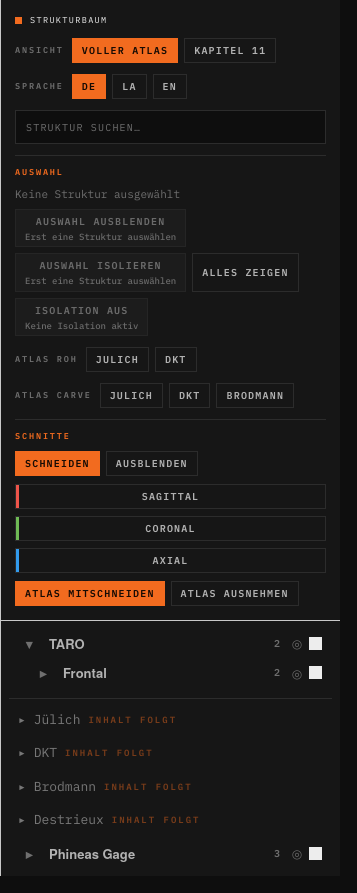
StructureTree Gruppenknoten › bindet die Suche an den Store und rendert Label-, Alias- und Nulltreffer
The width and height of the screenshot is (357, 893).
Type "Area A" into the field with placeholder "Struktur suchen…" at (170, 127), box [15,110,326,144]
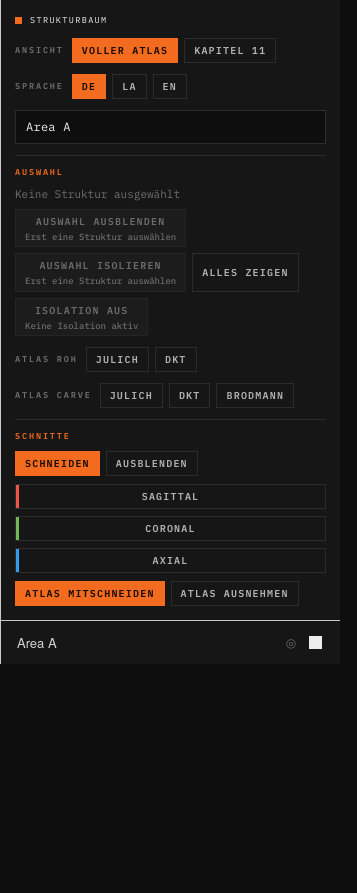
Expected: the button "Area B" is not shown
Expected: the text "Area A" is shown, [17,632,57,652]
Expected: the button "Area A" is shown, [9,628,276,656]
Replace the text in the field with placeholder "Struktur suchen…" with "cingullum" at (170, 127), box [15,110,326,144]
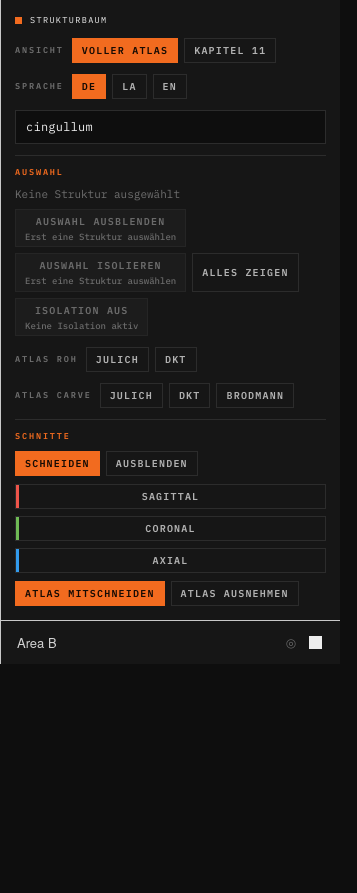
Expected: the button "Area B" is shown, [9,628,276,656]
Expected: the button "Area A" is gone
Replace the text in the field with placeholder "Struktur suchen…" with "Eisenstange" at (170, 127), box [15,110,326,144]
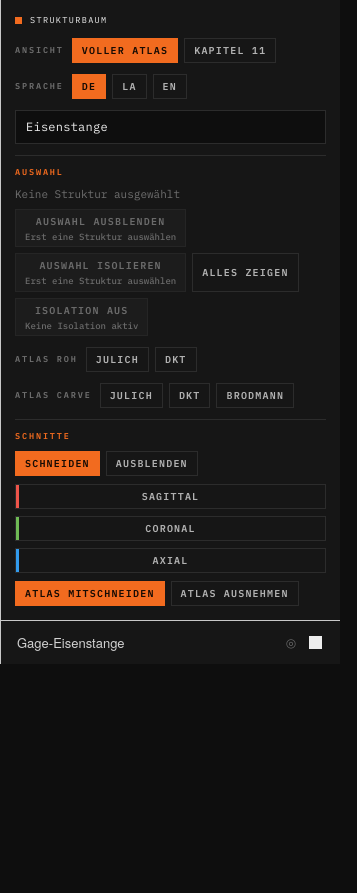
Expected: the button "Area A" is not shown
Expected: the button "Gage-Eisenstange" is shown, [9,628,276,656]
Replace the text in the field with placeholder "Struktur suchen…" with "kein-treffer" at (170, 127), box [15,110,326,144]
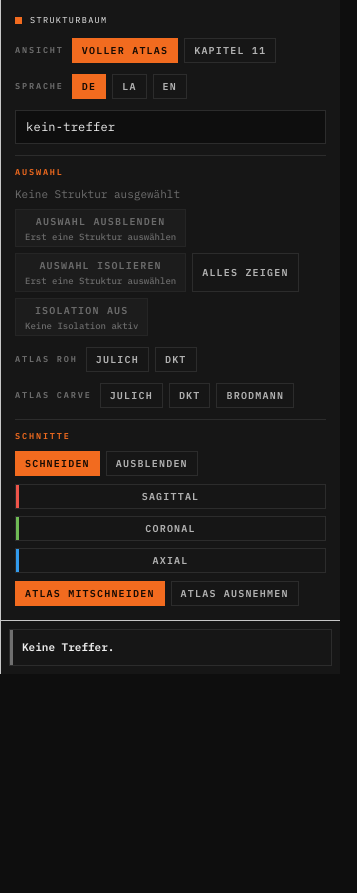
Expected: the text "Keine Treffer." is shown, [22,640,114,654]
